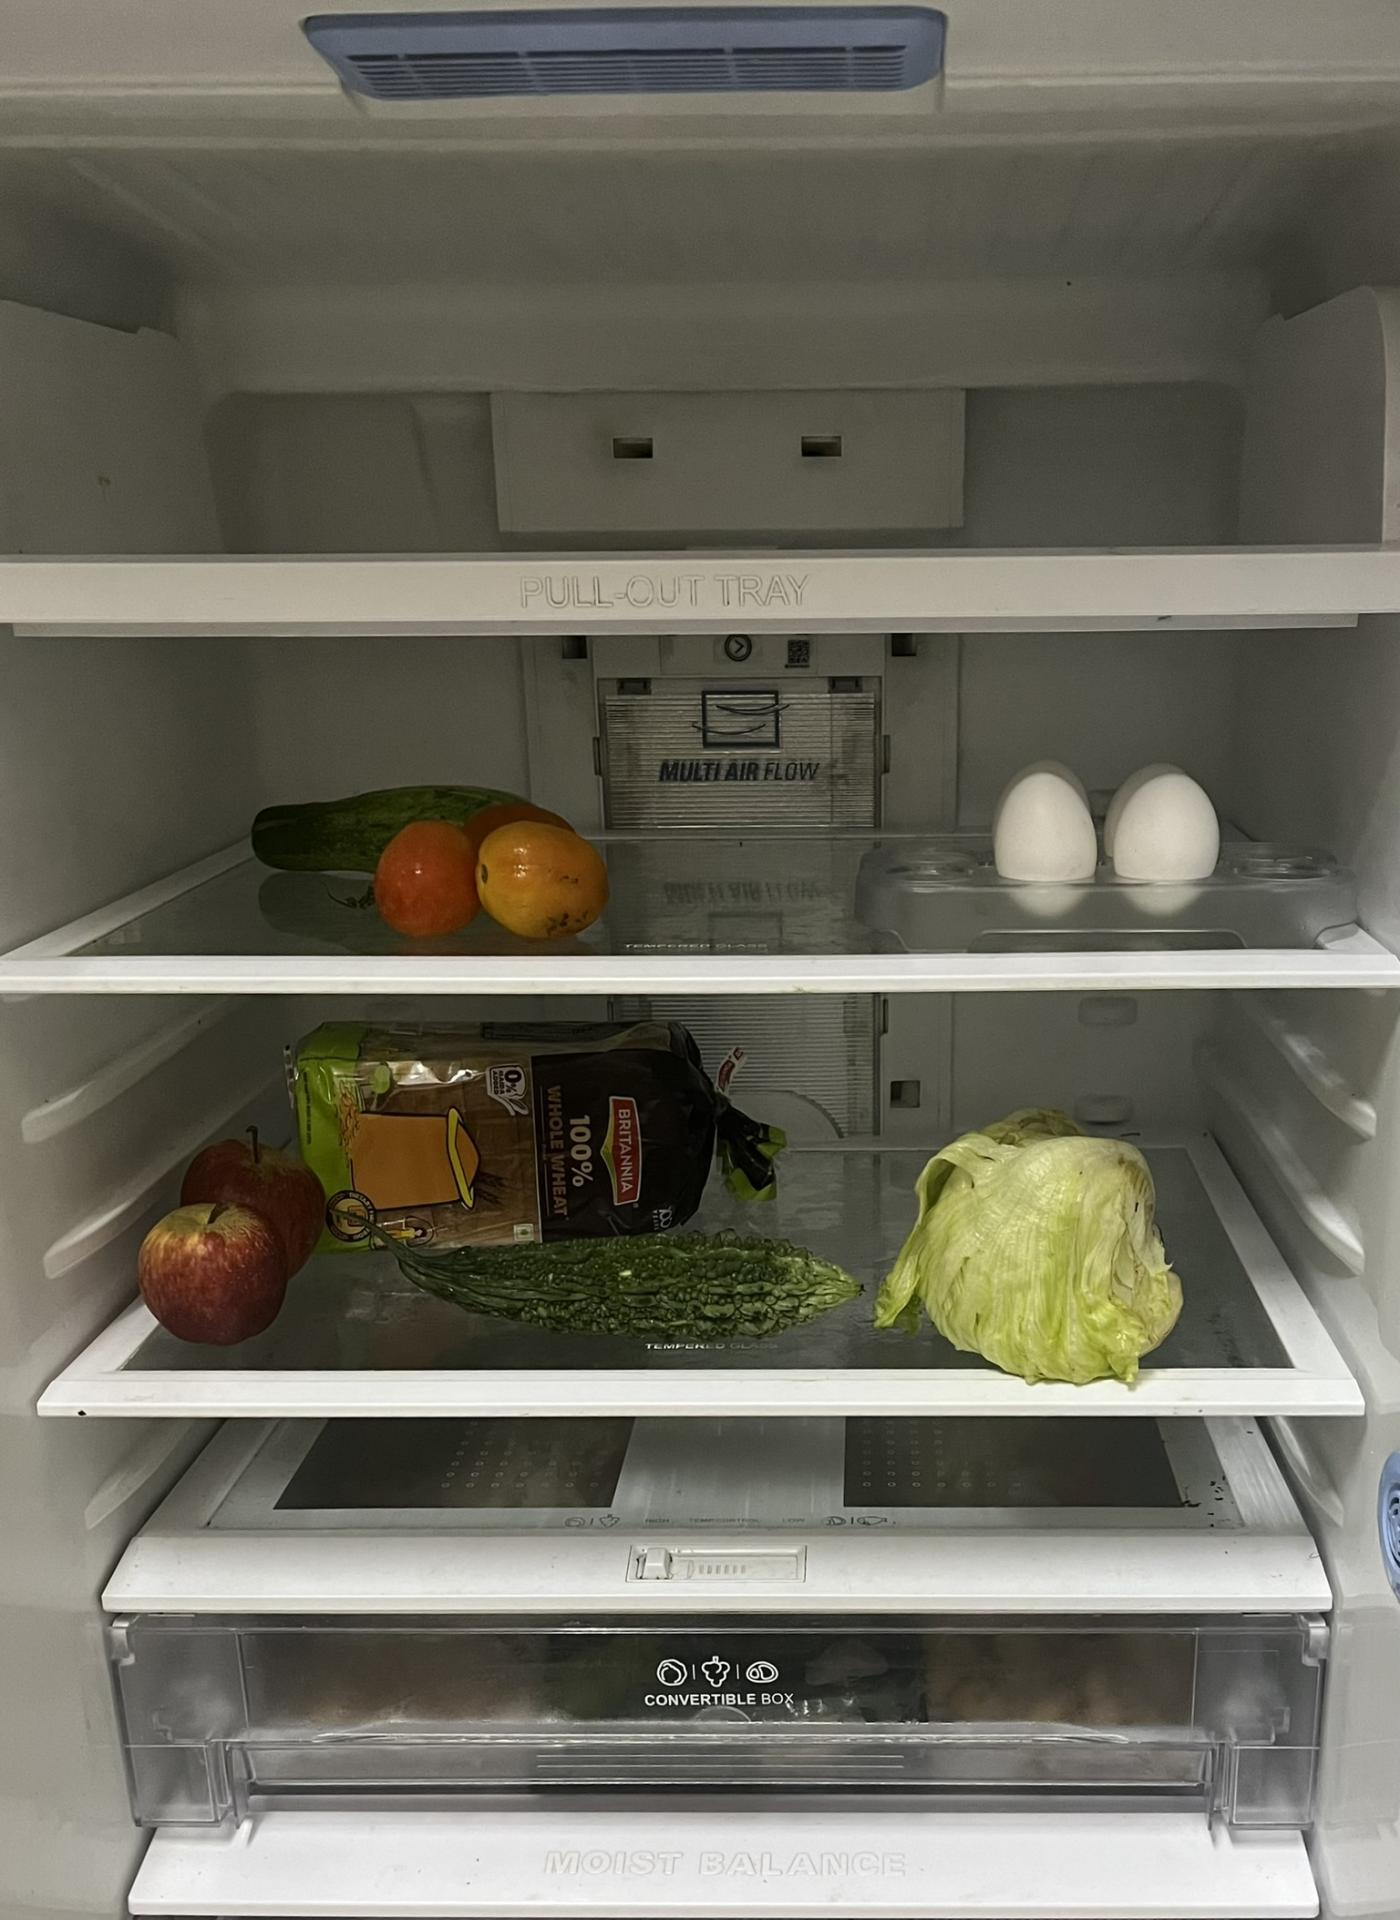apple: (146, 1128, 325, 1343)
bread: (285, 1020, 771, 1225)
cucumber: (255, 784, 565, 850)
egg: (993, 766, 1224, 918)
lettuce: (896, 1112, 1179, 1394)
tomato: (374, 815, 613, 947)
